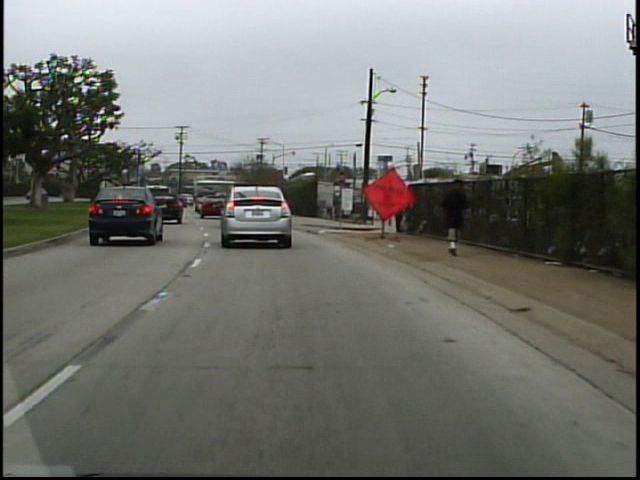person: (435, 173, 470, 261)
